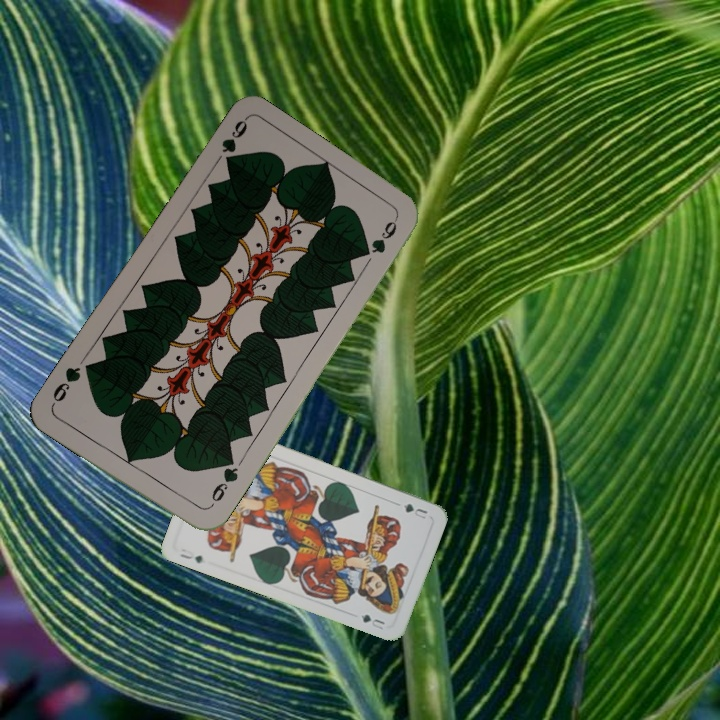G9: (204, 455, 241, 511), (217, 115, 250, 167)
GU: (399, 499, 430, 521), (175, 549, 205, 566)
